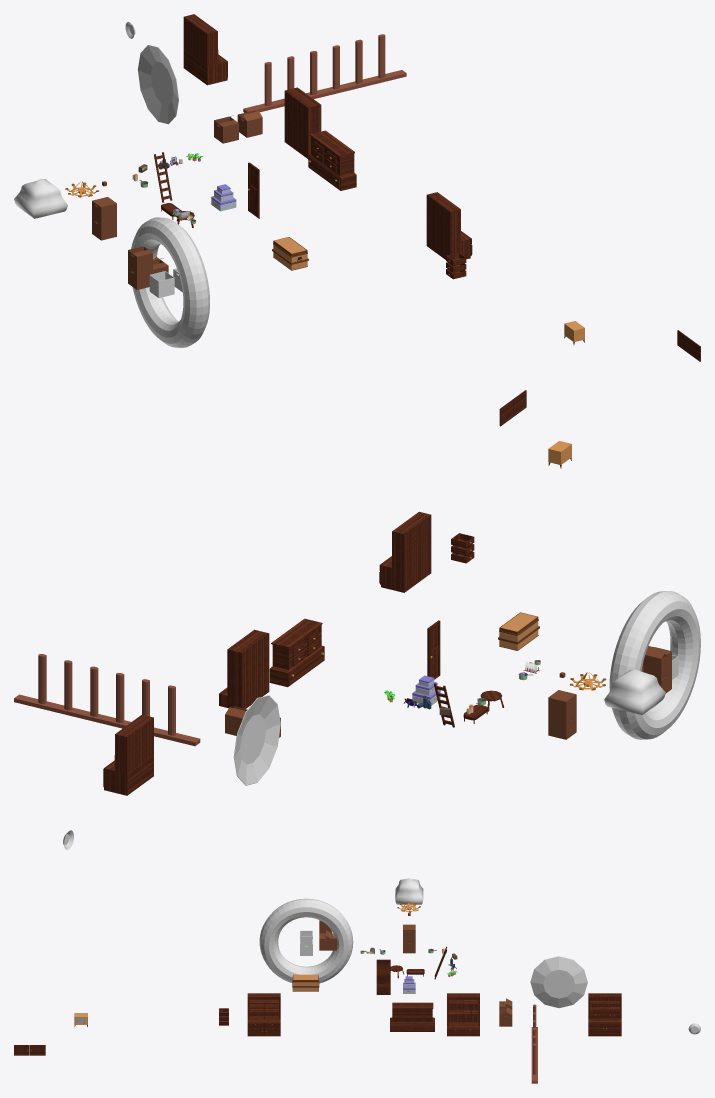
The model's file is Armario_2.fbx.
3 renders of one model, top to bottom at view 1: azimuth 30°, elevation 25°; view 2: azimuth 150°, elevation 25°; view 3: azimuth 270°, elevation 25°, orthographic. The views are drawn at different scales.
Visible parts, largest first — view 1: Torus, Cube.519, Circle.007, Cube.383, Cube.421, Cube.418, Plane.020, Cube.376, Cube.521, Cube.508, Cube.507, Cube.511 (+2 smaller); view 2: Torus, Cube.519, Circle.007, Cube.421, Cube.418, Cube.383, Plane.020, Cube.376, Cube.521, Cube.516, Cube.515; view 3: Torus, Circle.007, Cube.376, Cube.418, Cube.421, Cube.383, Plane.020, Cube.521, Cube.519.
Boxes of the visible parts, x1,y1,x2,y2 form: Torus: [131, 217, 209, 347]; Cube.519: [243, 34, 406, 112]; Circle.007: [137, 45, 178, 124]; Cube.383: [183, 14, 227, 85]; Cube.421: [426, 192, 471, 259]; Cube.418: [284, 87, 321, 158]; Plane.020: [14, 178, 67, 218]; Cube.376: [308, 130, 356, 190]; Cube.521: [248, 162, 259, 218]; Cube.508: [149, 271, 174, 297]; Cube.507: [237, 110, 262, 137]; Cube.511: [214, 115, 238, 143]; Torus: [609, 591, 700, 739]; Cube.519: [14, 654, 200, 746]; Circle.007: [233, 695, 280, 785]; Cube.421: [380, 511, 431, 592]; Cube.418: [219, 629, 269, 708]; Cube.383: [104, 714, 153, 795]; Plane.020: [604, 669, 665, 714]; Cube.376: [269, 618, 324, 687]; Cube.521: [427, 620, 440, 679]; Cube.516: [548, 690, 576, 720]; Cube.515: [643, 646, 671, 677]; Torus: [259, 898, 353, 983]; Circle.007: [530, 956, 587, 1008]; Cube.376: [390, 1002, 434, 1031]; Cube.418: [447, 993, 479, 1036]; Cube.421: [247, 993, 280, 1036]; Cube.383: [588, 993, 621, 1036]; Plane.020: [395, 878, 423, 904]; Cube.521: [376, 959, 390, 994]; Cube.519: [531, 1004, 537, 1083].
Size of the model in its own units: 5915 by 1496 by 10682.
